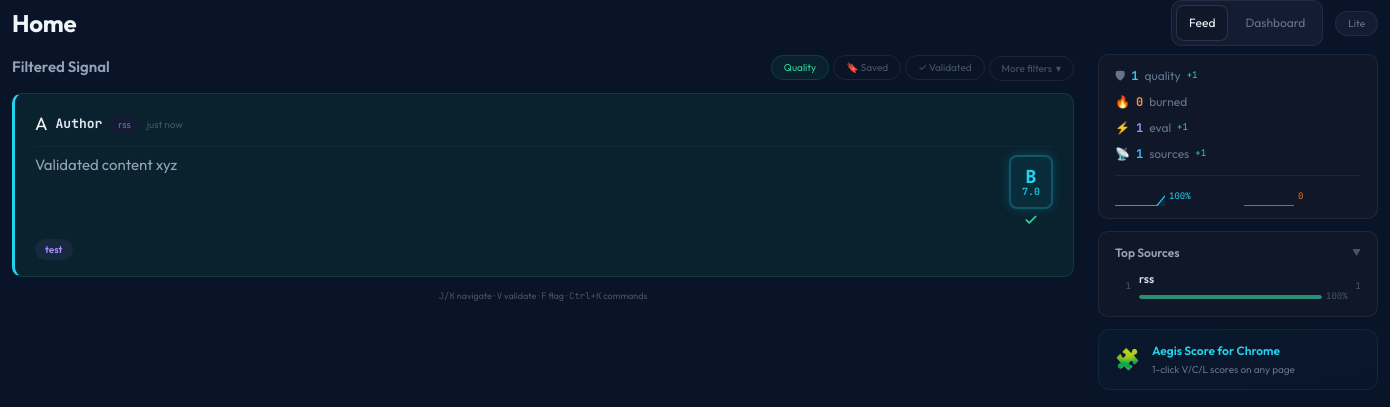
Test: DashboardTab — Validated timestamp badge › shows Validated timestamp when filter is validated
The width and height of the screenshot is (1390, 407).
Click the button with test id "aegis-filter-validated" at x=945, y=68, box [905, 55, 985, 80]
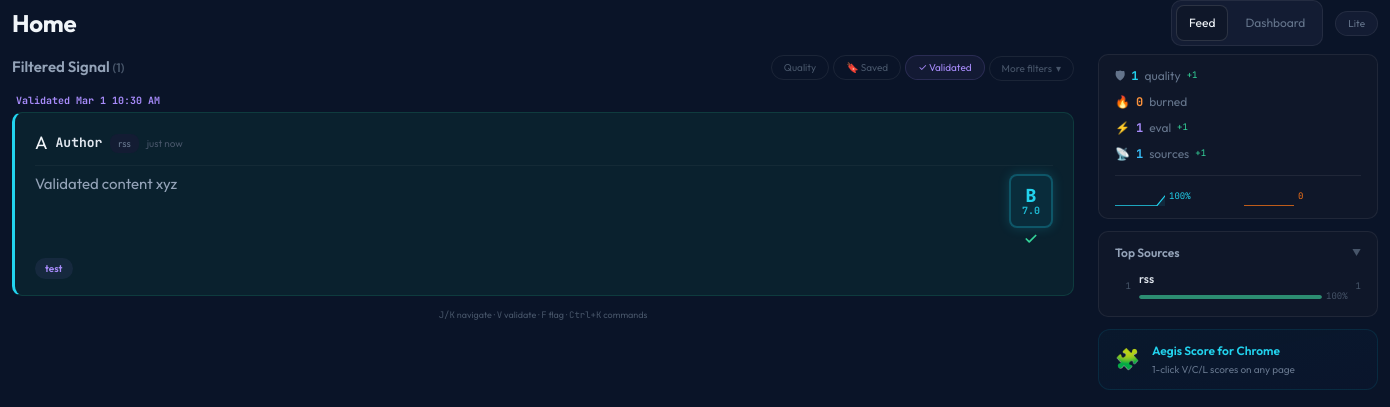
expect the text "Validated Mar 1 10:30 AM" is shown: met, box [16, 94, 160, 107]
expect the text with class "font-semibold" reads "Validated Mar 1 10:30 AM": met, box [76, 94, 106, 107]
